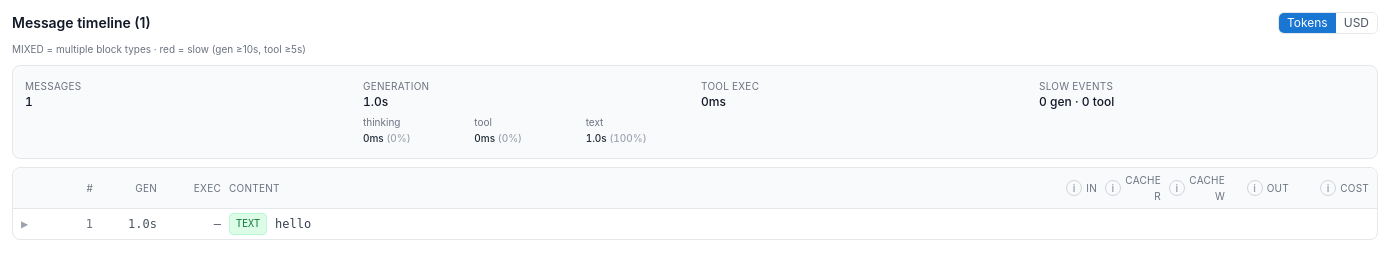
it: MessageTimelineSection — table layout › USD toggle prices the token columns and shows an 'estimated' badge
The image size is (1390, 257).
Expected: the text "estimated" is not shown
// Toggle to USD: the Out column shows the priced value + estimated badge.
Click the button "USD": coordinates (1356, 23) x1=1336 y1=13 x2=1377 y2=33
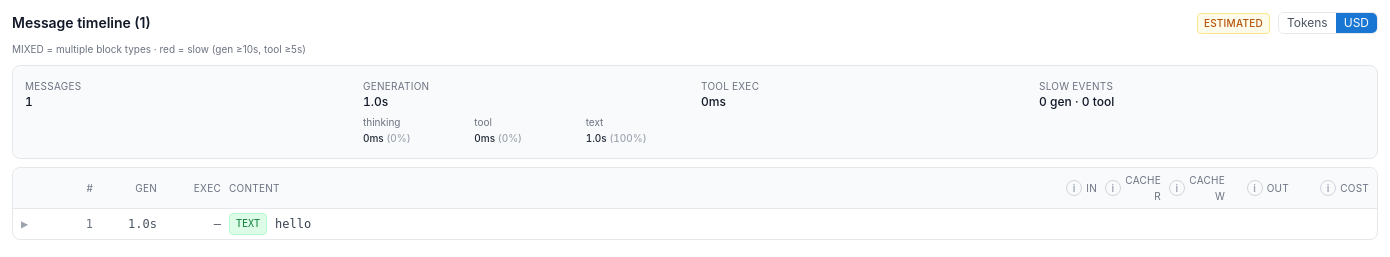
Expected: the text "estimated" is shown, x1=1197 y1=12 x2=1270 y2=34
